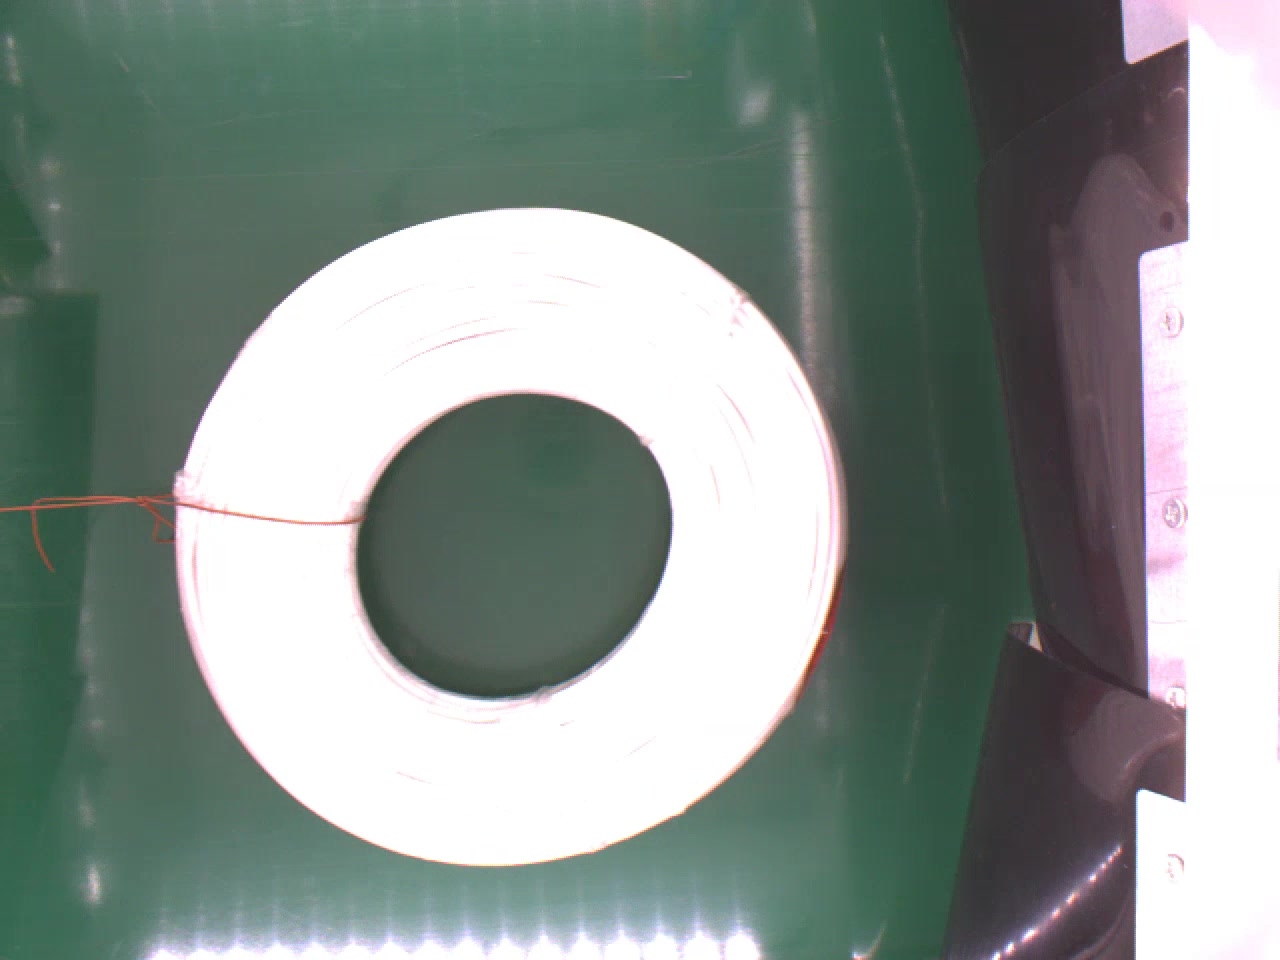white: (169, 205, 851, 878)
